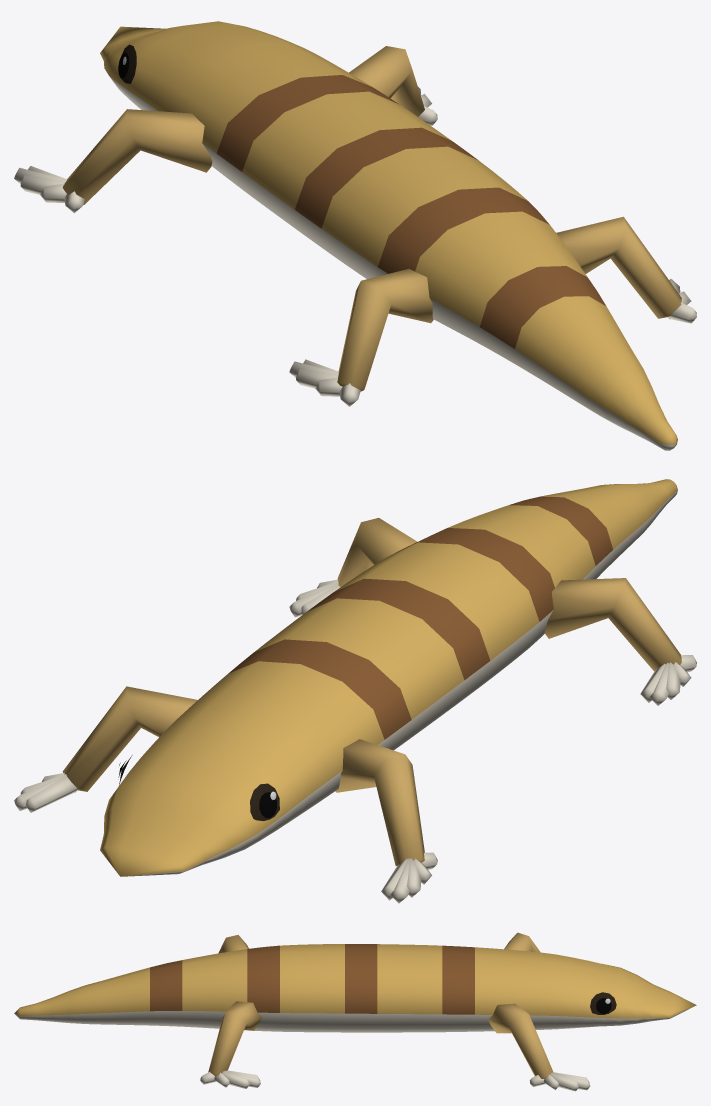
Rendered from sandfish.glb.
3 renders of one model, top to bottom at view 1: azimuth 30°, elevation 25°; view 2: azimuth 150°, elevation 25°; view 3: azimuth 270°, elevation 25°, orthographic. The views are drawn at different scales.
Visible parts, largest first — view 1: sandfish; view 2: sandfish; view 3: sandfish.
Part boxes in pixels (left/top/right/bottom): sandfish: left=14, top=21, right=696, bottom=450; sandfish: left=14, top=479, right=696, bottom=903; sandfish: left=14, top=932, right=696, bottom=1091.
Bounding box in the file's own units: 0.9416 × 0.2991 × 2.26.
